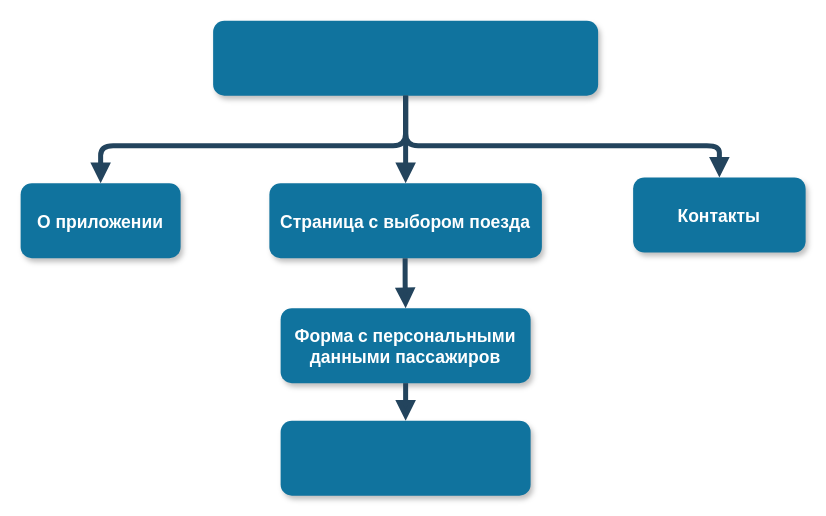
This 826x516 diagram has some shape labels left out. Each missing label, with the centre of its shape:
Главная страница, с формой о поездке: point (406, 59)
Страница "Спасибо за регистрацию": point (406, 459)
